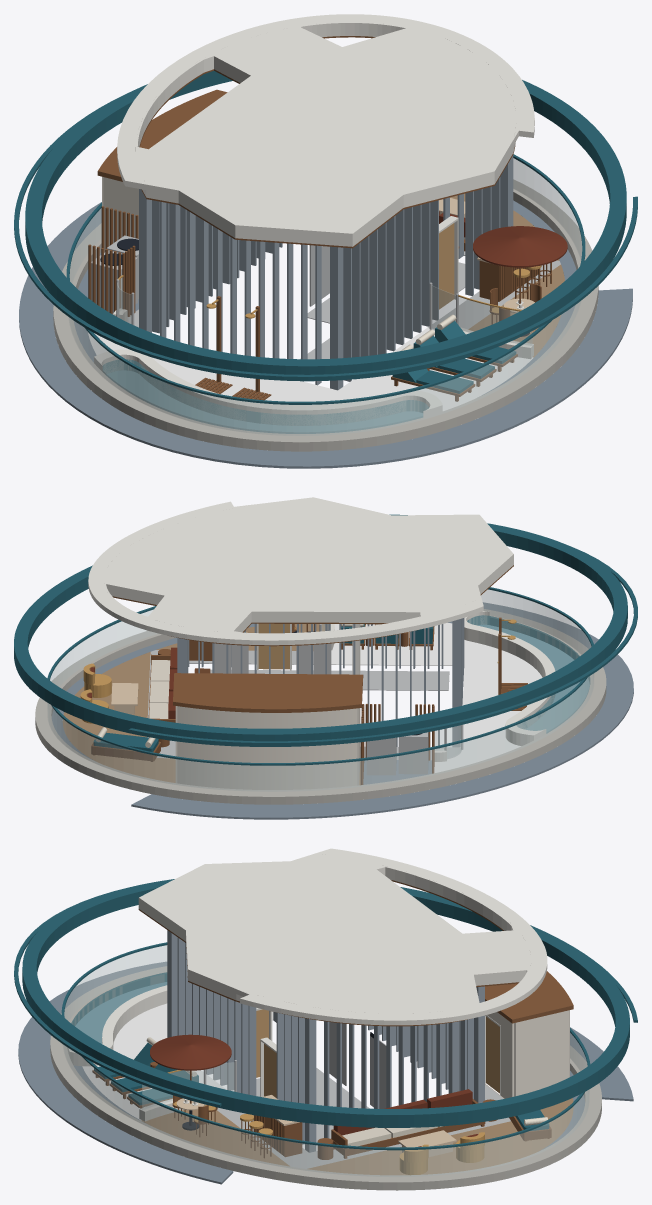
3 renders of one model, top to bottom at view 1: azimuth 30°, elevation 25°; view 2: azimuth 150°, elevation 25°; view 3: azimuth 270°, elevation 25°, orthographic. The views are drawn at different scales.
Visible parts, largest first — view 1: Generic models, Railings, Floors, Furniture, Specialty equipment, Doors, Walls, Plumbing fixtures, Casework; view 2: Generic models, Railings, Floors, Walls, Furniture, Specialty equipment, Doors, Plumbing fixtures; view 3: Generic models, Railings, Floors, Furniture, Walls, Doors, Specialty equipment, Casework.
Boxes of the visible parts, <box> form: Generic models: <box>14,14,637,468</box>; Railings: <box>66,154,585,435</box>; Floors: <box>74,193,576,410</box>; Furniture: <box>391,198,567,401</box>; Specialty equipment: <box>91,235,329,313</box>; Doors: <box>439,216,458,309</box>; Walls: <box>102,176,138,252</box>; Plumbing fixtures: <box>195,296,271,400</box>; Casework: <box>477,257,538,301</box>; Generic models: <box>14,497,637,819</box>; Railings: <box>47,587,593,791</box>; Floors: <box>51,621,542,784</box>; Walls: <box>175,706,360,789</box>; Furniture: <box>80,624,434,761</box>; Specialty equipment: <box>214,631,428,775</box>; Doors: <box>257,623,360,674</box>; Plumbing fixtures: <box>497,617,527,710</box>; Generic models: <box>14,848,637,1190</box>; Railings: <box>61,942,590,1176</box>; Floors: <box>73,1003,585,1175</box>; Furniture: <box>92,1034,551,1175</box>; Walls: <box>487,1010,569,1098</box>; Doors: <box>256,1008,500,1097</box>; Specialty equipment: <box>329,1022,386,1108</box>; Casework: <box>253,1095,302,1156</box>.
Bounding box in the file's own units: 16.35 × 4.61 × 17.53.
